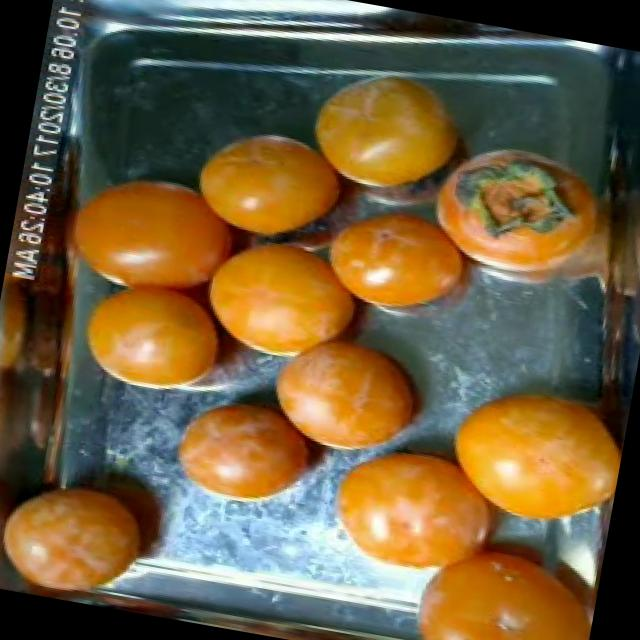Fruit: (420, 355, 632, 545), (145, 366, 356, 532), (244, 304, 456, 468), (304, 185, 504, 344), (0, 446, 186, 613), (287, 56, 487, 210), (61, 260, 260, 410), (307, 436, 493, 594), (176, 105, 366, 258)
